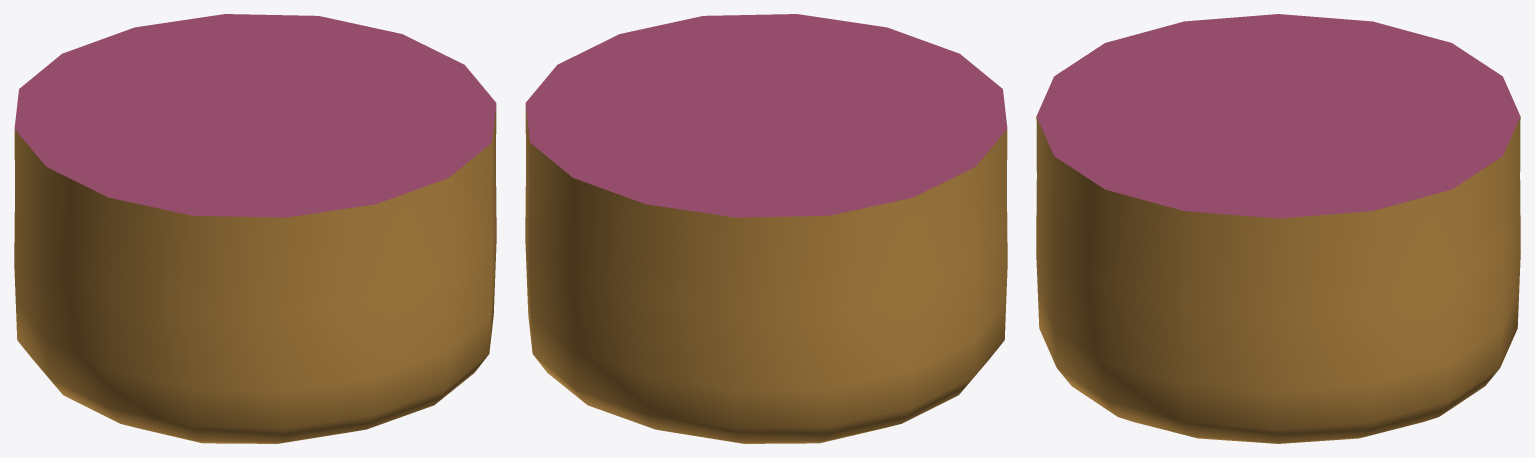
The model's file is Char_Cake_Base.glb.
3 renders of one model, left to right at view 1: azimuth 30°, elevation 25°; view 2: azimuth 150°, elevation 25°; view 3: azimuth 270°, elevation 25°, orthographic.
Parts seen in each view (by area): view 1: cake; view 2: cake; view 3: cake.
Part boxes in pixels (x1,y1,x2,y2): cake: (14,14,496,443); cake: (525,14,1007,443); cake: (1036,14,1520,443).
Size of the model in its own units: 1.43 by 0.8262 by 1.43.
